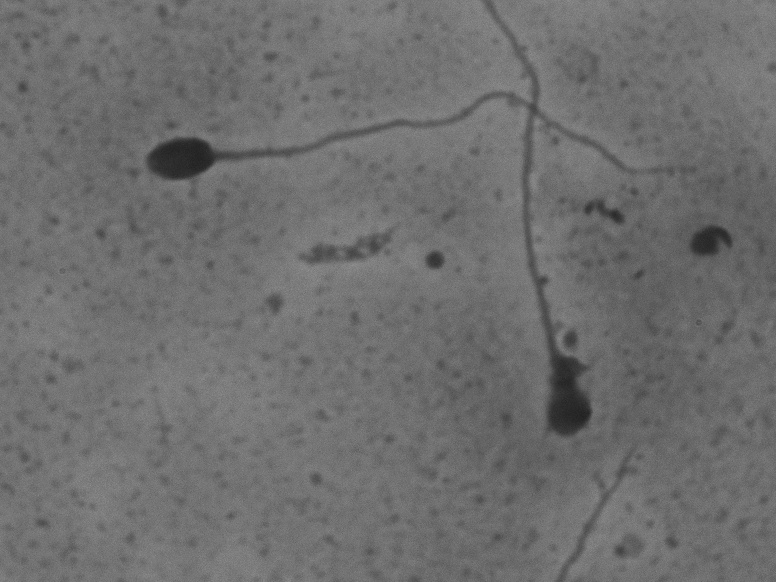Abnormal: (465, 3, 613, 467)
Normal: (113, 73, 703, 230)
